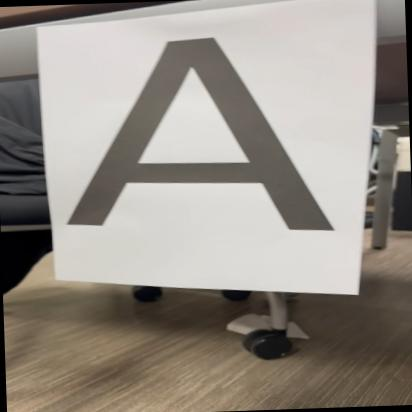seat: (58, 28, 346, 242)
